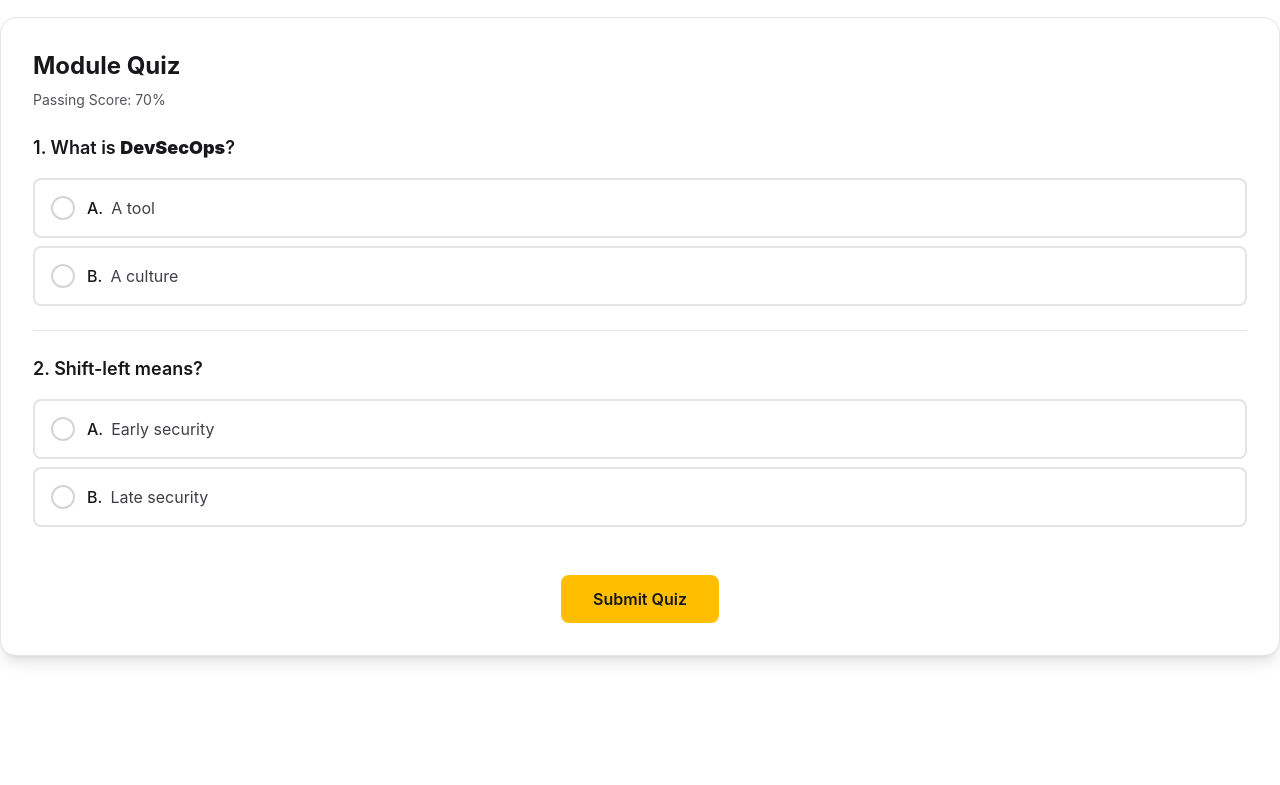
Test case: shows a failed result with retry and explanations
Click the text "A culture" at [144, 276], box [110,266,178,286]
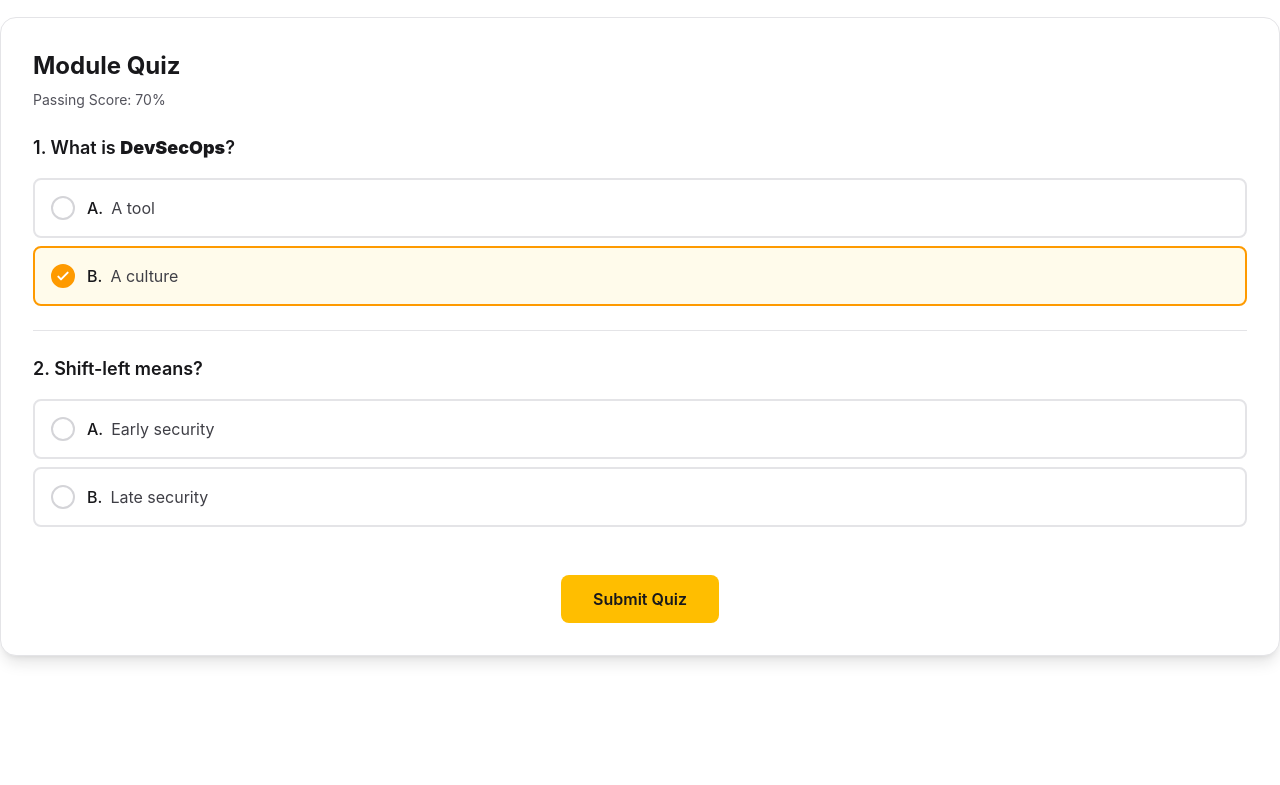
Click the text "Early security" at [163, 429], box [111,419,214,439]
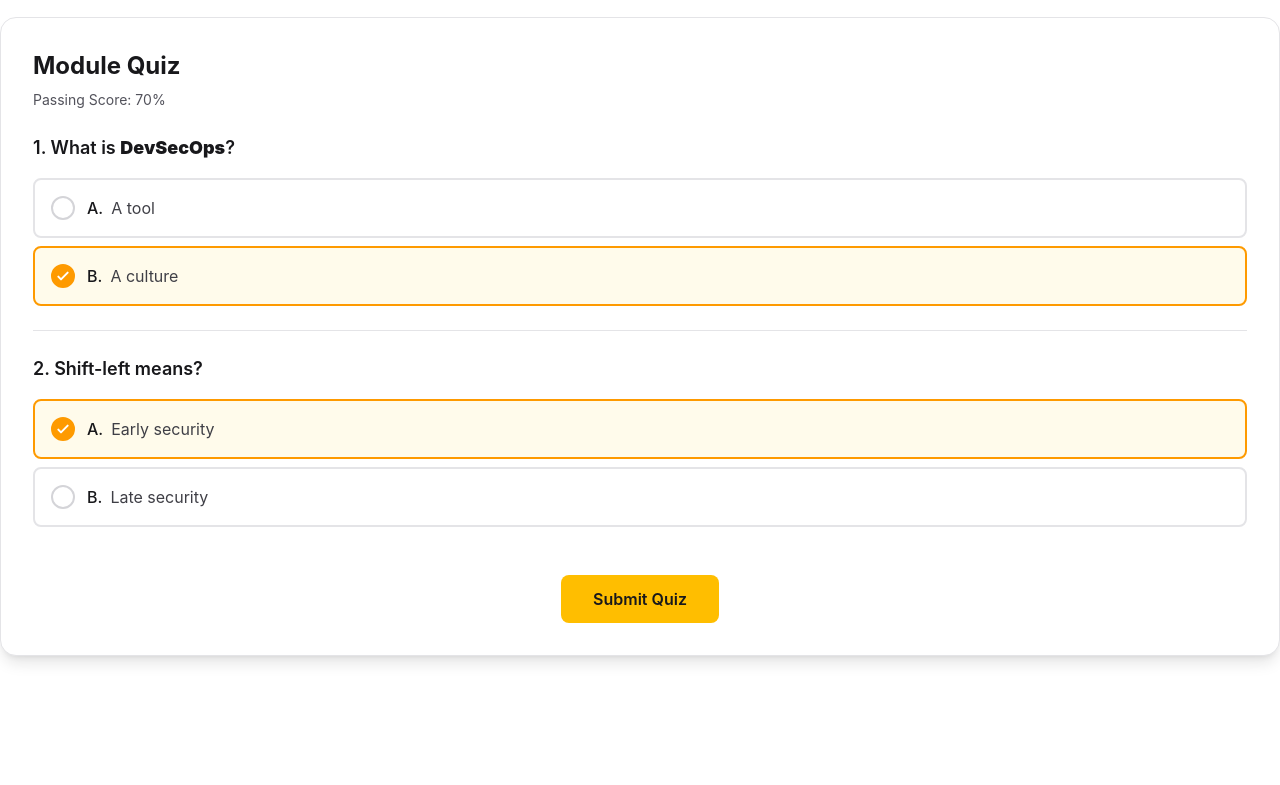
Click the button "Submit Quiz" at [640, 599], box [561,575,719,623]
(page scrolled)
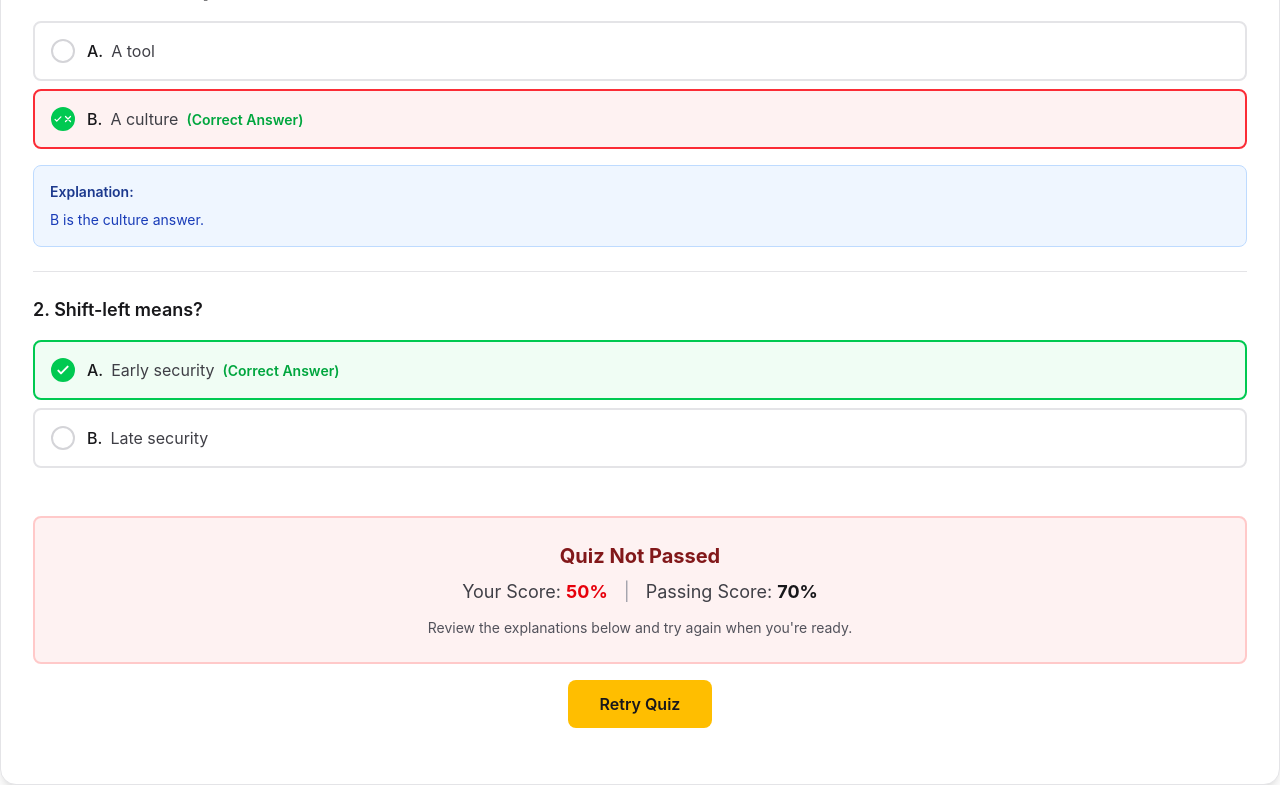
Expected: the heading "Quiz Not Passed" is shown, [560,544,720,568]
Expected: the text "B is the culture answer." is shown, [50,211,204,228]
Click the button "Retry Quiz" at [640, 704], box [568,680,712,728]
(page scrolled)
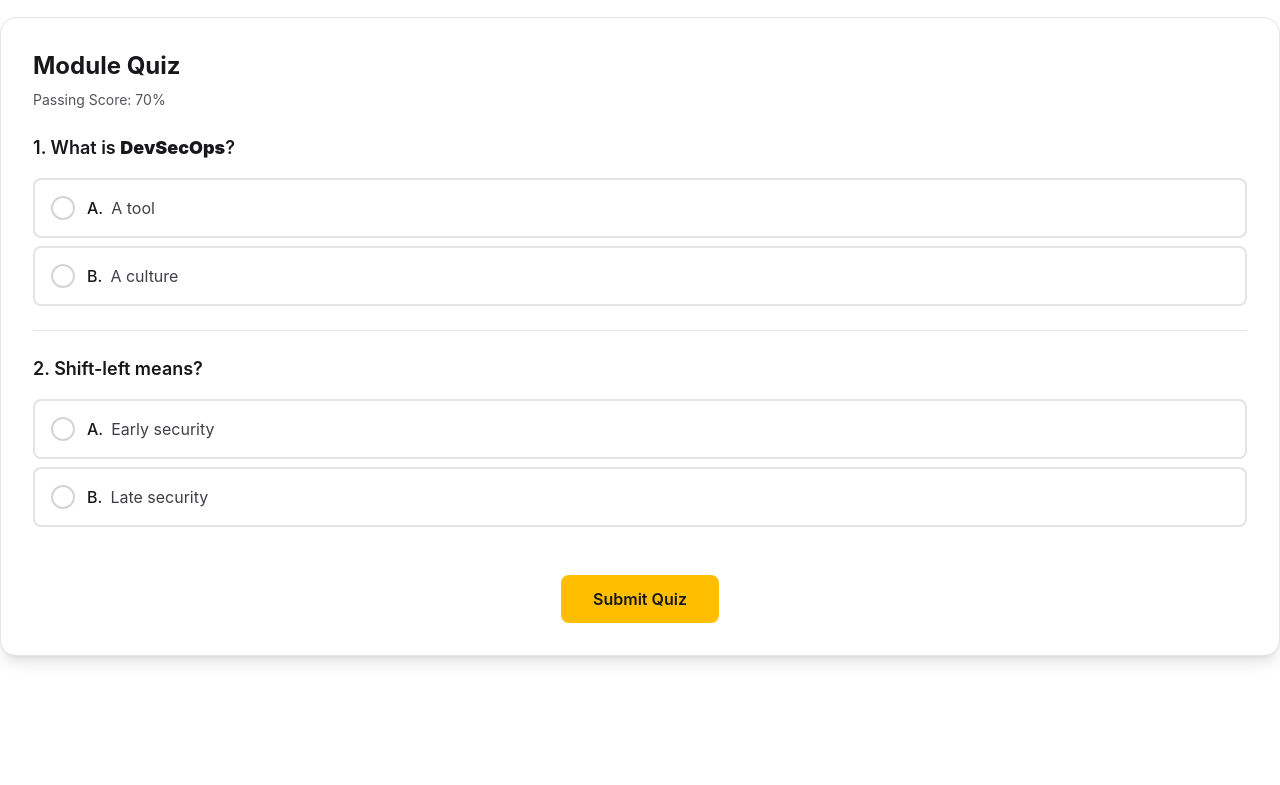
Expected: the button "Submit Quiz" is shown, [561,575,719,623]
